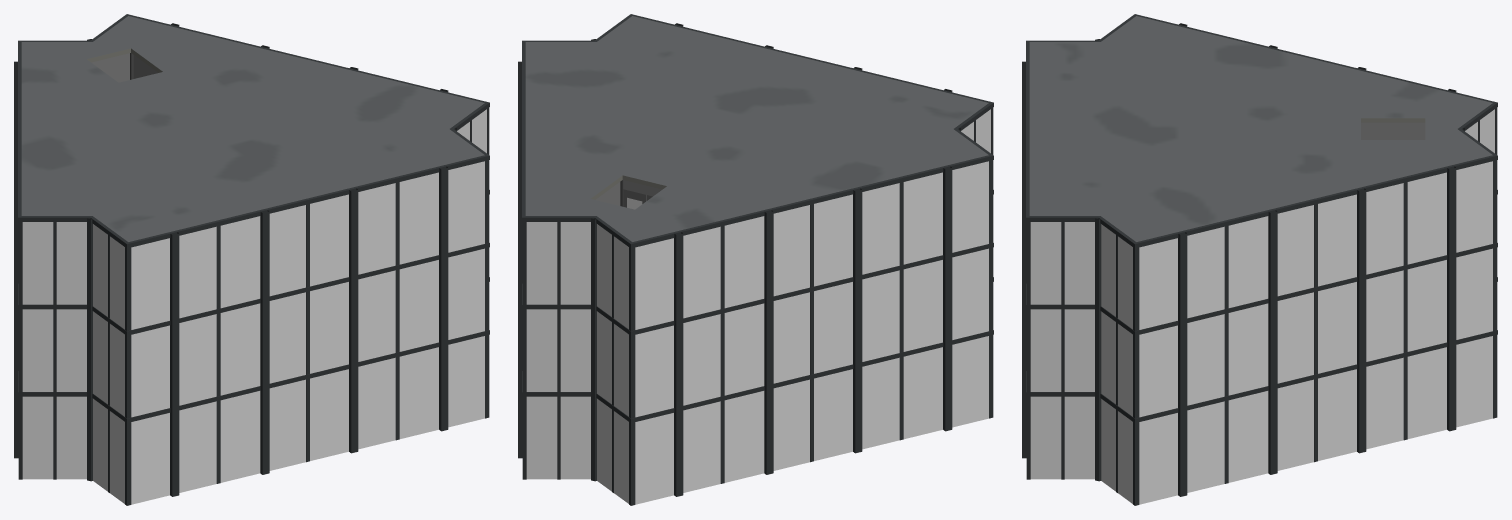
File: SM_Bldg_City_High-Rise_Modern_02_Mid.fbx
The picture shows the model from 3 angles, left to right: view 1: azimuth 30°, elevation 25°; view 2: azimuth 150°, elevation 25°; view 3: azimuth 270°, elevation 25°; orthographic projection.
Parts seen in each view (by area): view 1: SM_Bldg_City_High-Rise_Modern_02_Mid; view 2: SM_Bldg_City_High-Rise_Modern_02_Mid; view 3: SM_Bldg_City_High-Rise_Modern_02_Mid.
Part boxes in pixels (<box>): SM_Bldg_City_High-Rise_Modern_02_Mid: <box>14,14,489,505</box>; SM_Bldg_City_High-Rise_Modern_02_Mid: <box>518,14,993,505</box>; SM_Bldg_City_High-Rise_Modern_02_Mid: <box>1022,14,1497,505</box>.
Bounding box in the file's own units: 1696 × 901 × 1481.
